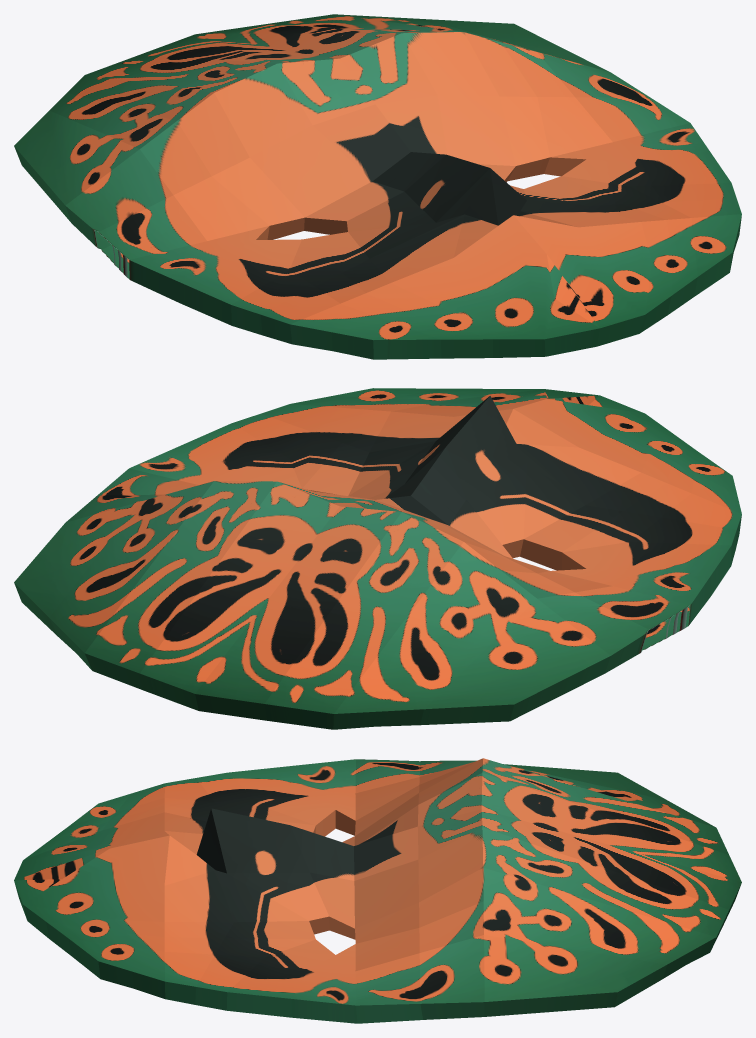
The model's file is frogmask.fbx.
The picture shows the model from 3 angles, top to bottom: view 1: azimuth 30°, elevation 25°; view 2: azimuth 150°, elevation 25°; view 3: azimuth 270°, elevation 25°; orthographic projection. The views are drawn at different scales.
Visible parts, largest first — view 1: Plane; view 2: Plane; view 3: Plane.
Part boxes in pixels (box(x1,y1,x2,y2)): Plane: box(14, 14, 741, 359); Plane: box(14, 388, 741, 729); Plane: box(14, 758, 741, 1023).
Bounding box in the file's own units: 224 × 42.98 × 280.
